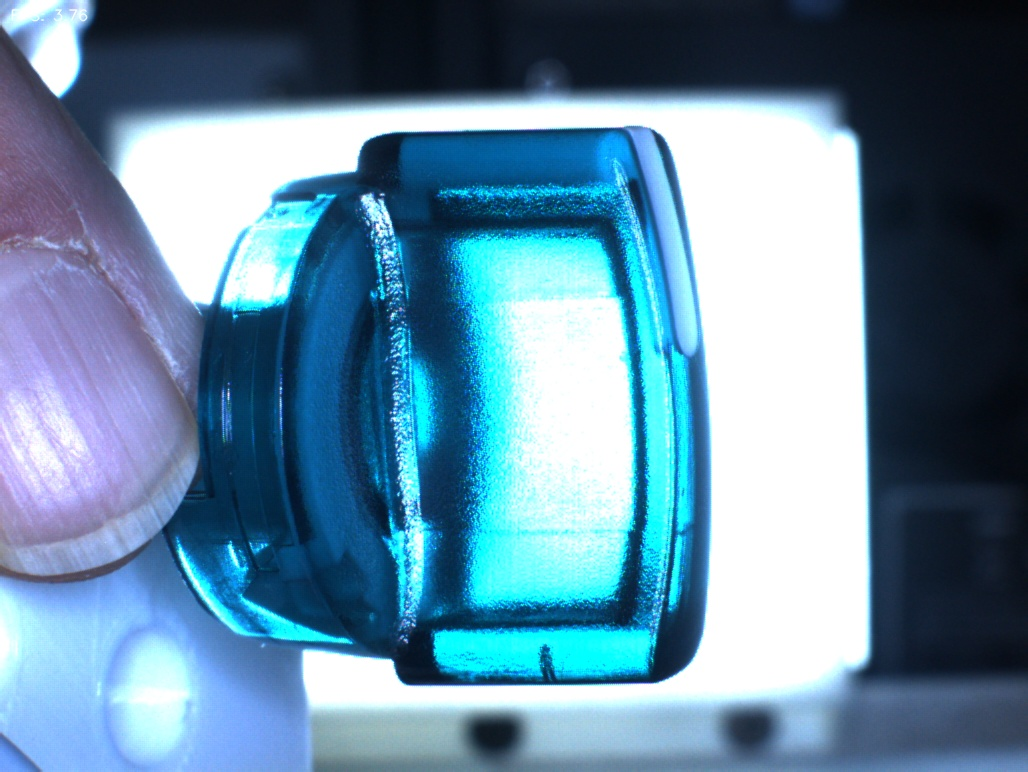Bulle: (501, 624, 595, 723)
